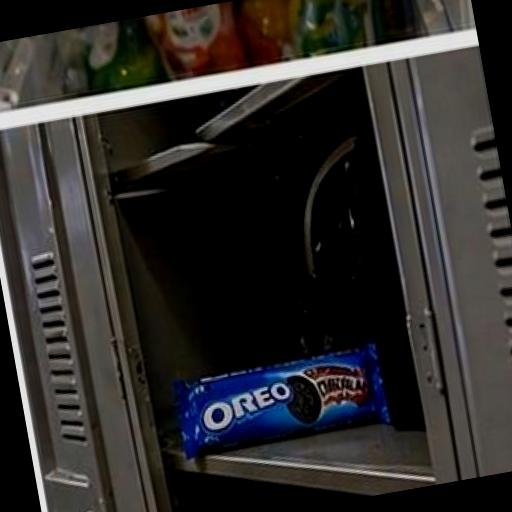oreo: (123, 272, 456, 498)
